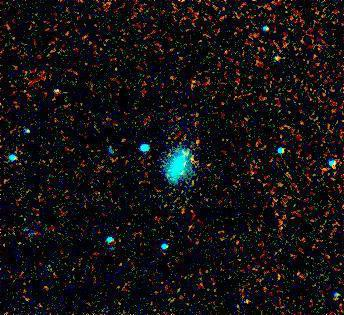star: (262, 42, 292, 72)
